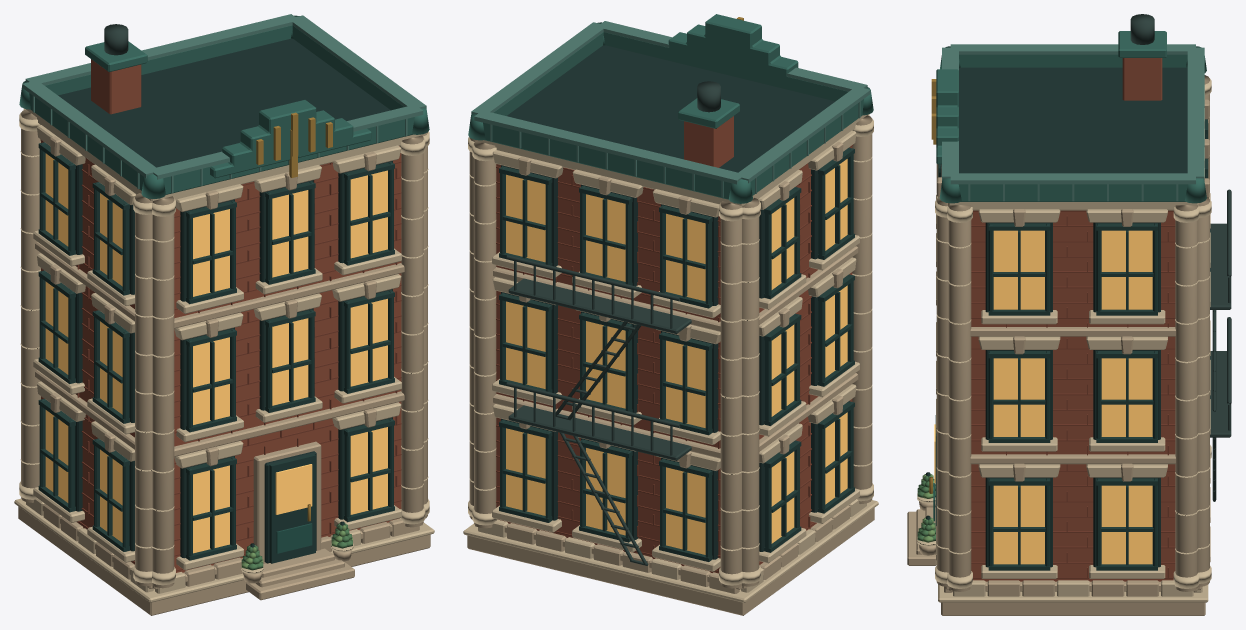
3 views of the same model, side by side, from view 1: azimuth 30°, elevation 25°; view 2: azimuth 150°, elevation 25°; view 3: azimuth 270°, elevation 25° (orthographic).
Parts seen in each view (by area): view 1: expansion_villa_3_geometry; view 2: expansion_villa_3_geometry; view 3: expansion_villa_3_geometry.
Boxes of the visible parts, bbox=[...] form: expansion_villa_3_geometry: bbox=[14, 14, 434, 615]; expansion_villa_3_geometry: bbox=[463, 14, 878, 615]; expansion_villa_3_geometry: bbox=[907, 14, 1231, 615].
Bounding box in the file's own units: 0.9859 × 1.6 × 0.9513.
